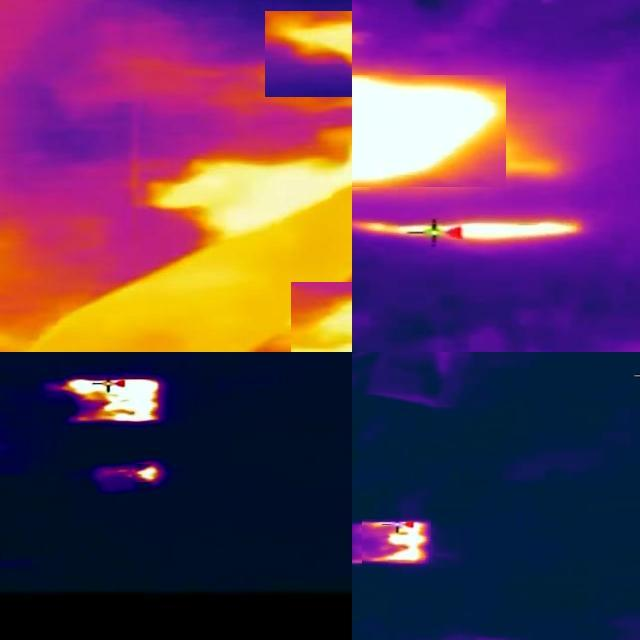fire: (353, 76, 506, 188), (281, 145, 351, 210), (70, 378, 160, 422), (463, 214, 582, 245), (393, 515, 429, 570), (133, 465, 163, 483)
